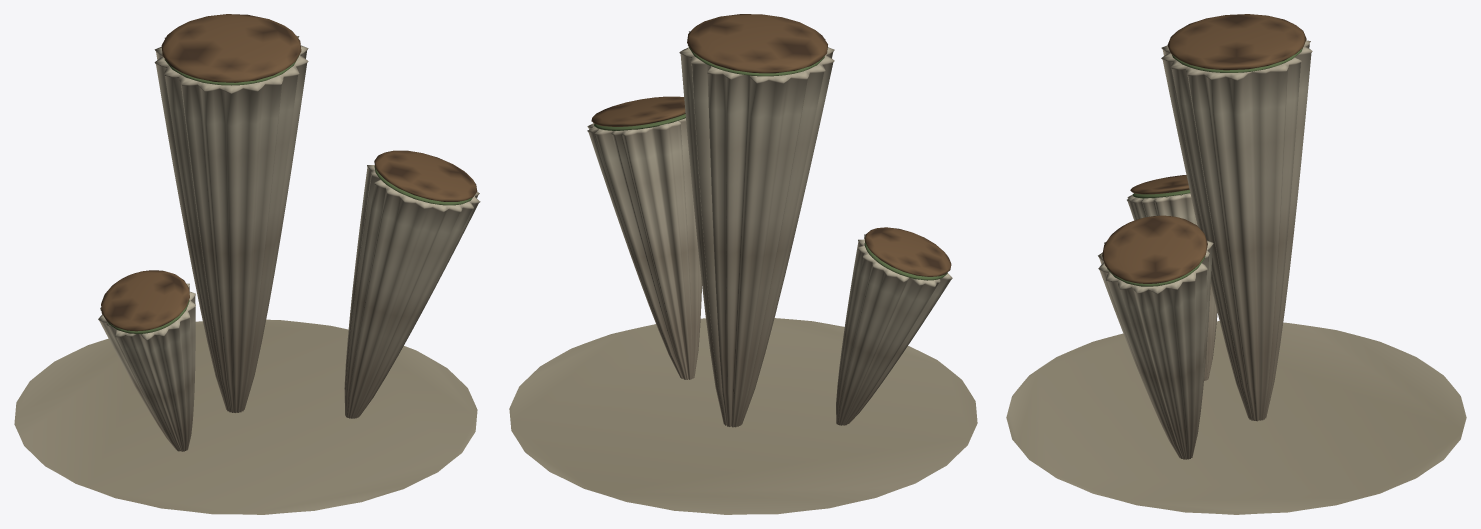
The model's file is Hippurites.fbx.
The picture shows the model from 3 angles, left to right: view 1: azimuth 30°, elevation 25°; view 2: azimuth 150°, elevation 25°; view 3: azimuth 270°, elevation 25°; orthographic projection. The views are drawn at different scales.
Parts seen in each view (by area): view 1: Hippurites; view 2: Hippurites; view 3: Hippurites.
Boxes of the visible parts, bbox=[...] form: Hippurites: bbox=[14, 14, 480, 514]; Hippurites: bbox=[509, 14, 977, 514]; Hippurites: bbox=[1006, 14, 1466, 514].
Bounding box in the file's own units: 1.1 × 1.04 × 1.1.
